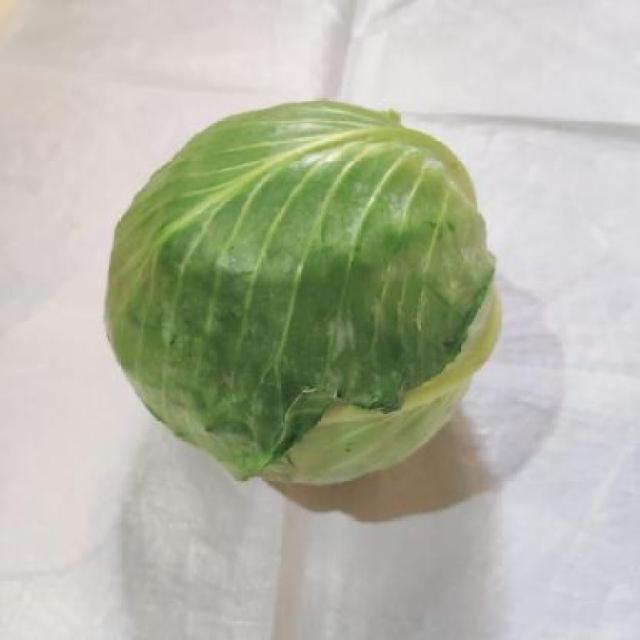Cabbage: (69, 74, 543, 518)
